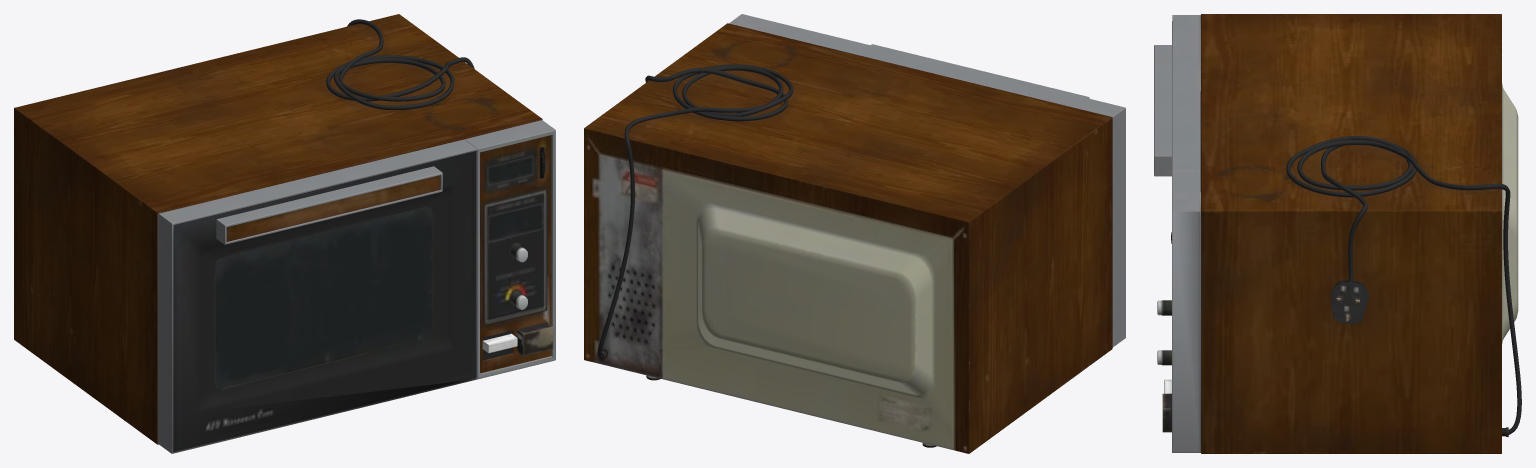
The model's file is microwave.glb.
The picture shows the model from 3 angles, left to right: view 1: azimuth 30°, elevation 25°; view 2: azimuth 150°, elevation 25°; view 3: azimuth 270°, elevation 25°; orthographic projection. The views are drawn at different scales.
Parts seen in each view (by area): view 1: vintage_microwave; view 2: vintage_microwave; view 3: vintage_microwave.
Part boxes in pixels (x1,y1,x2,y2): vintage_microwave: (14,14,555,453); vintage_microwave: (584,14,1125,453); vintage_microwave: (1154,14,1521,453).
Size of the model in its own units: 0.5 by 0.3 by 0.37.
2 materials, 2 textured.
